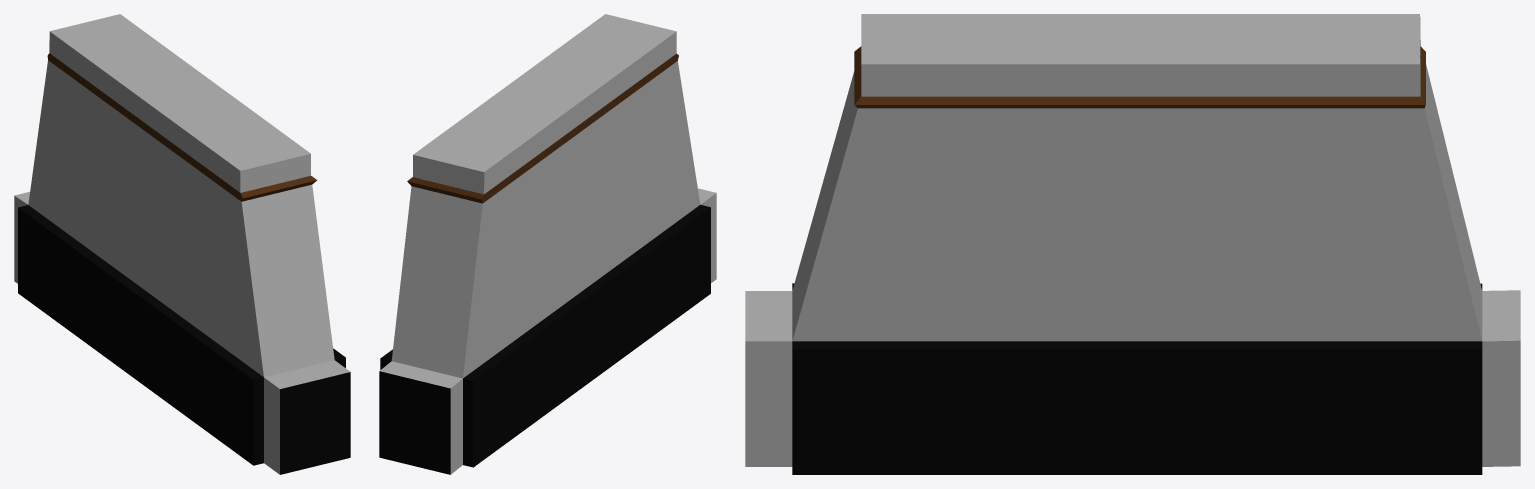
The model's file is placeholder_wall_normal (2).fbx.
3 views of the same model, side by side, from view 1: azimuth 30°, elevation 25°; view 2: azimuth 150°, elevation 25°; view 3: azimuth 270°, elevation 25° (orthographic). The views are drawn at different scales.
Visible parts, largest first — view 1: Cube; view 2: Cube; view 3: Cube.
Boxes of the visible parts, x1=… form: Cube: x1=14, y1=14, x2=350, y2=474; Cube: x1=379, y1=14, x2=716, y2=474; Cube: x1=745, y1=14, x2=1520, y2=474.
Bounding box in the file's own units: 166 × 472 × 823.
